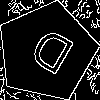D: (21, 26, 77, 85)
